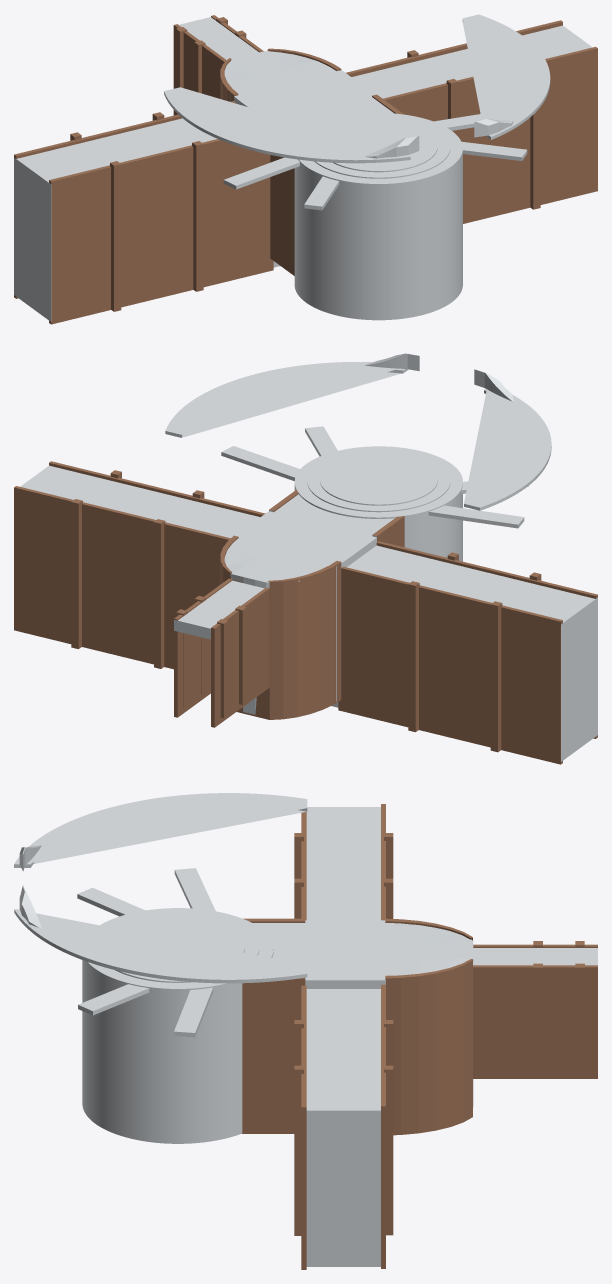
The model's file is Ground.fbx.
3 views of the same model, one above another, from view 1: azimuth 30°, elevation 25°; view 2: azimuth 150°, elevation 25°; view 3: azimuth 270°, elevation 25° (orthographic). The views are drawn at different scales.
Visible parts, largest first — view 1: Circle_Ground; view 2: Circle_Ground; view 3: Circle_Ground.
Part boxes in pixels (x1,y1,x2,y2): Circle_Ground: [14, 14, 597, 324]; Circle_Ground: [14, 353, 597, 764]; Circle_Ground: [14, 793, 597, 1269].
Size of the model in its own units: 30006 by 11457 by 24399.
